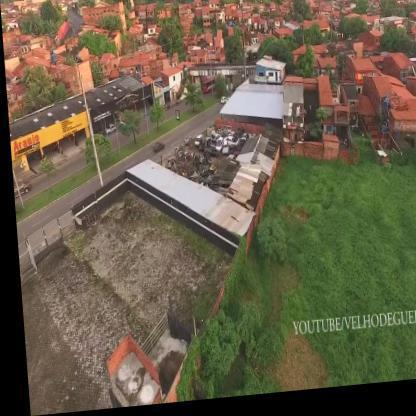lixo: (171, 153, 220, 186), (194, 127, 241, 157)
